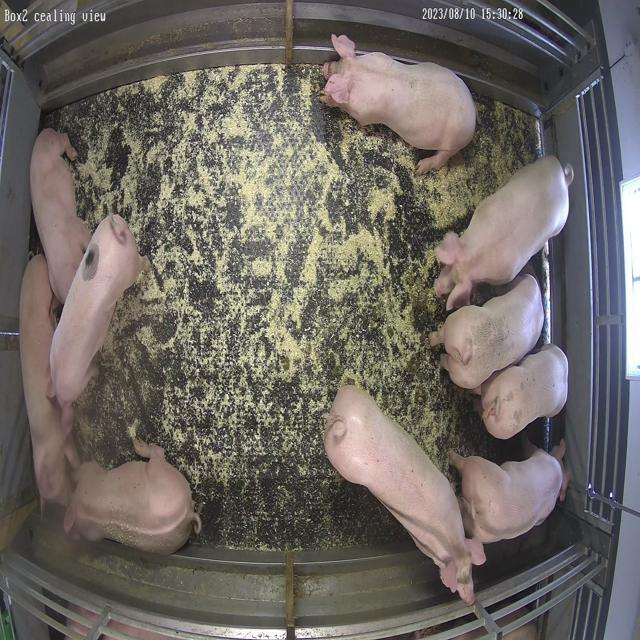Pig: (325, 386, 486, 606), (321, 34, 477, 174), (435, 156, 575, 310), (49, 215, 140, 410), (64, 441, 201, 556), (432, 275, 545, 390), (20, 255, 69, 504), (450, 450, 565, 544), (30, 128, 91, 302), (482, 345, 569, 440)
